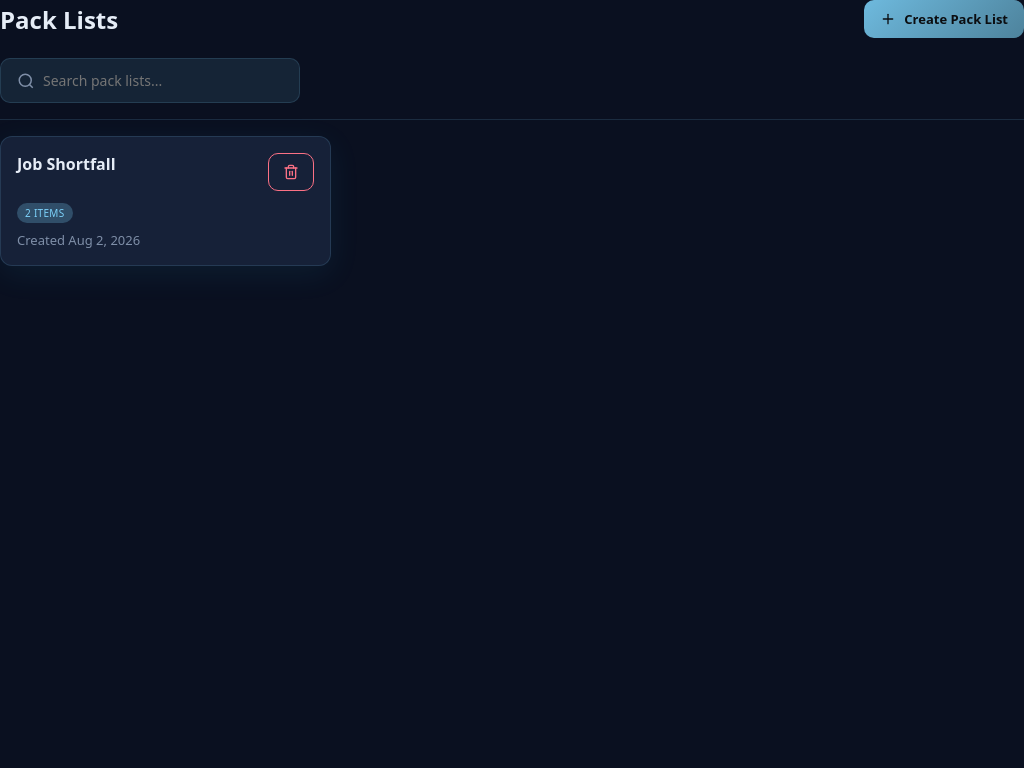
Test: detail view info › warns about unavailable items and quantity shortfalls
Click the heading "Job Shortfall" at [66, 164], box [17,153,116,175]
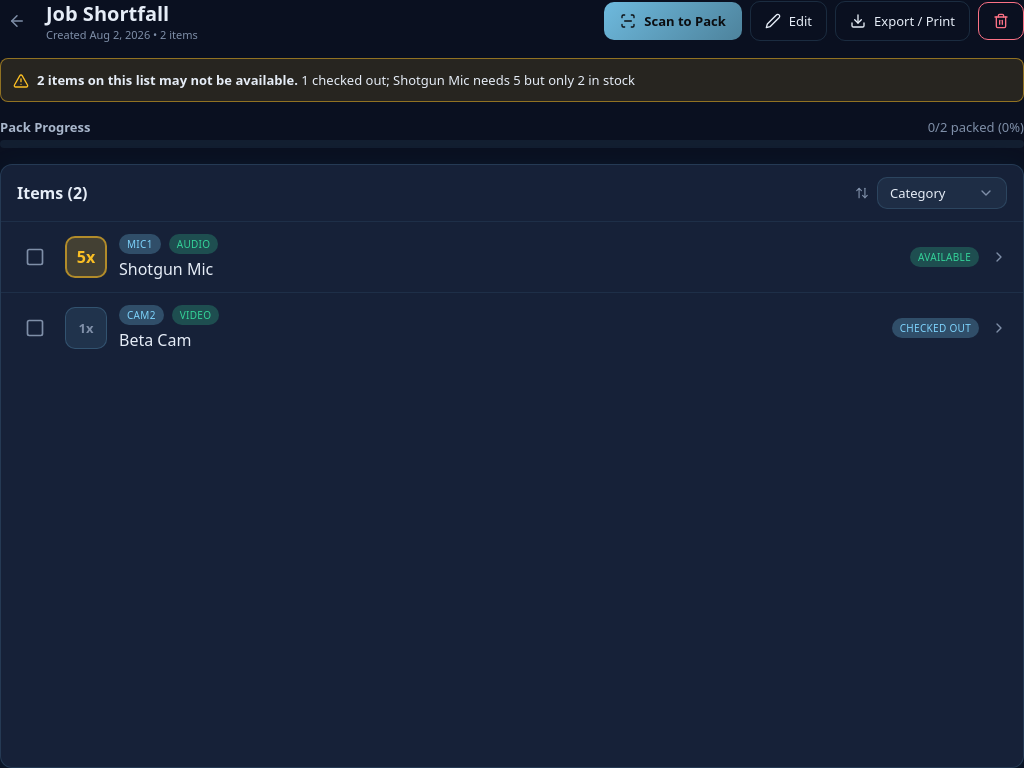
Now the text "2 items on this list may not be available." is shown, box [37,71,298,89]
Now the text "1 checked out" is shown, box [301,71,386,89]
Now the text "Shotgun Mic needs 5 but only 2 in stock" is shown, box [386,71,635,89]
